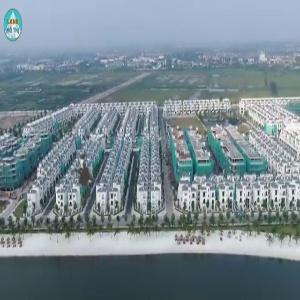drone: (43, 129, 136, 222)
